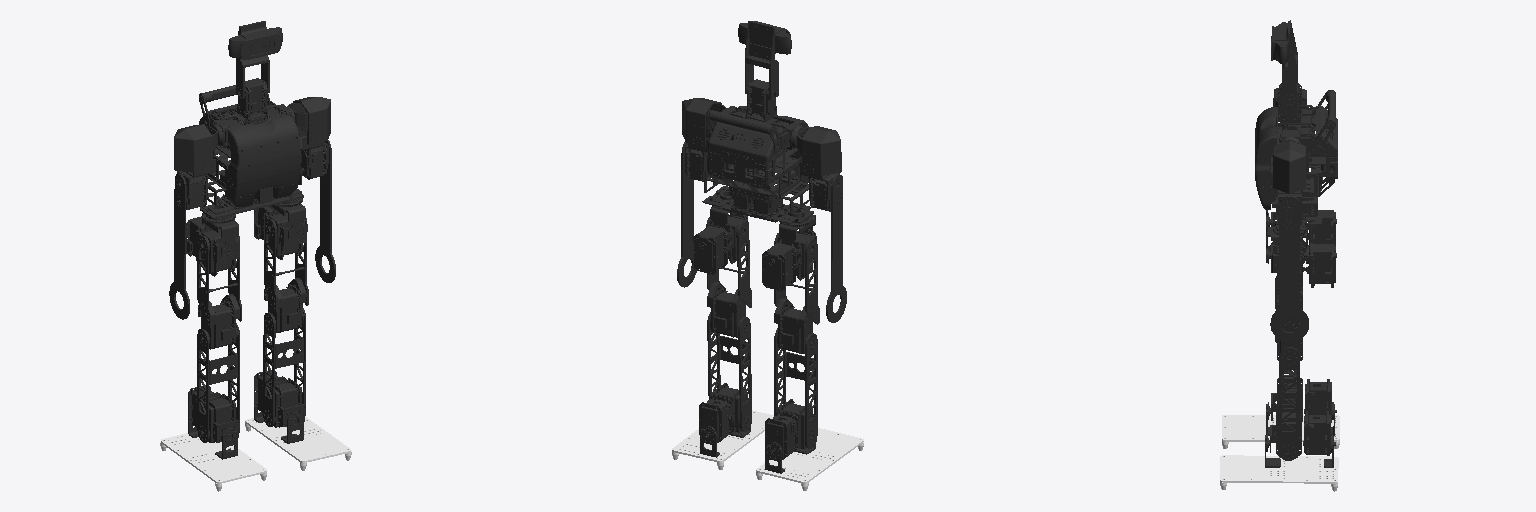
--- Render facts (derived) ---
3 views of the same robot in one strip: view 1: azimuth 30°, elevation 25°; view 2: azimuth 150°, elevation 25°; view 3: azimuth 270°, elevation 25° (orthographic).
Model zjudancerURDF with 22 links and 21 joints (18 revolute, 3 fixed), rooted at base_com, posed all joints at 0.
Visible links, largest first — view 1: base_link, LHipPitch, RHipPitch, RShoulder, r_sole, LShoulder, RKnee, LKnee, HeadPitch, l_sole, RHand, RAnklePitch (+7 smaller); view 2: base_link, RShoulder, RHipPitch, LHipPitch, r_sole, HeadPitch, RKnee, LKnee, LShoulder, LHipRoll, RHipRoll, RHand (+5 smaller); view 3: base_link, LHand, l_sole, LShoulder, LKnee, LAnklePitch, LHipRoll, HeadPitch, r_sole, RAnklePitch, RHipRoll, HeadYaw (+1 smaller).
Link boxes in pixels (x1,y1,x2,y2): base_link: (199, 85, 303, 223); LHipPitch: (264, 218, 308, 332); RHipPitch: (197, 235, 241, 349); RShoulder: (174, 124, 217, 209); r_sole: (160, 433, 266, 491); LShoulder: (287, 97, 330, 179); RKnee: (197, 323, 239, 442); LKnee: (263, 308, 305, 426); HeadPitch: (228, 21, 282, 98); l_sole: (245, 416, 351, 470); RHand: (169, 174, 189, 319); RAnklePitch: (188, 385, 238, 442); base_link: (702, 106, 813, 226); RShoulder: (797, 126, 841, 211); RHipPitch: (774, 233, 819, 353); LHipPitch: (706, 217, 751, 337); r_sole: (756, 428, 863, 490); HeadPitch: (738, 21, 791, 100); RKnee: (774, 328, 817, 448); LKnee: (707, 312, 751, 431); LShoulder: (682, 98, 725, 181); LHipRoll: (693, 213, 748, 274); RHipRoll: (762, 229, 816, 290); RHand: (826, 174, 846, 322); base_link: (1255, 90, 1337, 235); LHand: (1270, 196, 1308, 341); l_sole: (1220, 455, 1338, 491); LShoulder: (1273, 141, 1305, 225); LKnee: (1278, 347, 1299, 460); LAnklePitch: (1266, 410, 1335, 457); LHipRoll: (1268, 242, 1336, 287); HeadPitch: (1271, 20, 1297, 103); r_sole: (1222, 415, 1339, 448); RAnklePitch: (1268, 378, 1336, 422); RHipRoll: (1268, 210, 1336, 247); HeadYaw: (1278, 83, 1301, 122).
Size in the robot's own frame: 0.2805 by 0.1835 by 0.7308 metres.
Meshes: 21 distinct files referenced, 21 mesh visuals loaded (21 binary STL).

The robot description file, URDF, robot "zjudancerURDF":
<robot
  name="zjudancerURDF">
  <link name = "base_com" />
  <link
    name="base_link">
    <inertial>
      <origin
        xyz="-0.0208293262310362 0.0080090301997606 -0.00911554239783212"
        rpy="0 0 0" />
      <mass
        value="0.540875998303045" />
      <inertia
        ixx="0.00198815257681203"
        ixy="3.61383751067365E-06"
        ixz="-5.13308899389049E-06"
        iyy="0.00127845415804462"
        iyz="0.000133026039099894"
        izz="0.00224195983699153" />
    </inertial>
    <visual>
      <origin
        xyz="0 0 0"
        rpy="0 0 0" />
      <geometry>
        <mesh
          filename="package://zjudancerURDF/meshes/base_link.stl" />
      </geometry>
      <material
        name="">
        <color
          rgba="0.25 0.25 0.25 1" />
      </material>
    </visual>
    <collision>
      <origin
        xyz="0 0 0"
        rpy="0 0 0" />
      <geometry>
        <mesh
          filename="package://zjudancerURDF/meshes/base_link.stl" />
      </geometry>
    </collision>
  </link>
  <joint
    name="drummy"
    type="fixed">
    <origin
      xyz="0 0 0"
      rpy="-1.5708 0 0" />
    <parent
      link="base_com" />
    <child
      link="base_link" />
  </joint>
  <link
    name="HeadYaw">
    <inertial>
      <origin
        xyz="-0.000345179135047391 -0.0267172826783171 -1.25612328837066E-08"
        rpy="0 0 0" />
      <mass
        value="0.0579542771191171" />
      <inertia
        ixx="1.94910114823733E-05"
        ixy="-3.84202176913727E-07"
        ixz="-2.1788375664448E-12"
        iyy="1.1489962681525E-05"
        iyz="1.52314344728411E-11"
        izz="2.30934707566597E-05" />
    </inertial>
    <visual>
      <origin
        xyz="0 0 0"
        rpy="0 0 0" />
      <geometry>
        <mesh
          filename="package://zjudancerURDF/meshes/HeadYaw.stl" />
      </geometry>
      <material
        name="">
        <color
          rgba="0.25 0.25 0.25 1" />
      </material>
    </visual>
    <collision>
      <origin
        xyz="0 0 0"
        rpy="0 0 0" />
      <geometry>
        <mesh
          filename="package://zjudancerURDF/meshes/HeadYaw.stl" />
      </geometry>
    </collision>
  </link>
  <joint
    name="HeadYaw"
    type="revolute">
    <origin
      xyz="-0.021584 -0.05865 -0.020408"
      rpy="3.1416 -0.02764 -3.1416" />
    <parent
      link="base_link" />
    <child
      link="HeadYaw" />
    <axis
      xyz="0 -1 0" />
    <limit
      lower="-1.7"
      upper="1.7"
      effort="0"
      velocity="0" />
  </joint>
  <link
    name="HeadPitch">
    <inertial>
      <origin
        xyz="0.000232827325365077 0.0743784701197822 0.00629122846704461"
        rpy="0 0 0" />
      <mass
        value="0.127630752753862" />
      <inertia
        ixx="9.58759288594825E-05"
        ixy="2.7068878296526E-08"
        ixz="-1.46120279992447E-08"
        iyy="6.37124130380846E-05"
        iyz="-1.39032063600842E-05"
        izz="0.000137696804225242" />
    </inertial>
    <visual>
      <origin
        xyz="0 0 0"
        rpy="0 0 0" />
      <geometry>
        <mesh
          filename="package://zjudancerURDF/meshes/HeadPitch.stl" />
      </geometry>
      <material
        name="">
        <color
          rgba="0.25 0.25 0.25 1" />
      </material>
    </visual>
    <collision>
      <origin
        xyz="0 0 0"
        rpy="0 0 0" />
      <geometry>
        <mesh
          filename="package://zjudancerURDF/meshes/HeadPitch.stl" />
      </geometry>
    </collision>
  </link>
  <joint
    name="HeadPitch"
    type="revolute">
    <origin
      xyz="0 -0.037 0"
      rpy="2.3666E-30 -6.9389E-16 3.1416" />
    <parent
      link="HeadYaw" />
    <child
      link="HeadPitch" />
    <axis
      xyz="1 0 0" />
    <limit
      lower="-1.7"
      upper="1.7"
      effort="0"
      velocity="0" />
  </joint>
  <link
    name="RShoulder">
    <inertial>
      <origin
        xyz="-0.0015216 0.042377 0.039565"
        rpy="0 0 0" />
      <mass
        value="0.11888" />
      <inertia
        ixx="0.00020971"
        ixy="6.5772E-06"
        ixz="5.8253E-08"
        iyy="5.6251E-05"
        iyz="-5.8281E-06"
        izz="0.0002001" />
    </inertial>
    <visual>
      <origin
        xyz="0 0 0"
        rpy="0 0 0" />
      <geometry>
        <mesh
          filename="package://zjudancerURDF/meshes/RShoulder.stl" />
      </geometry>
      <material
        name="">
        <color
          rgba="0.25 0.25 0.25 1" />
      </material>
    </visual>
    <collision>
      <origin
        xyz="0 0 0"
        rpy="0 0 0" />
      <geometry>
        <mesh
          filename="package://zjudancerURDF/meshes/RShoulder.stl" />
      </geometry>
    </collision>
  </link>
  <joint
    name="RShoulder"
    type="revolute">
    <origin
      xyz="-0.090484 -0.0399 -0.020408"
      rpy="3.1416 -1.5708 3.1416" />
    <parent
      link="base_link" />
    <child
      link="RShoulder" />
    <axis
      xyz="0 0 -1" />
    <limit
      lower="-1.7"
      upper="1.7"
      effort="0"
      velocity="0" />
  </joint>
  <link
    name="RHand">
    <inertial>
      <origin
        xyz="0.0833257163351804 0.000902994547307041 -0.00926588213450355"
        rpy="0 0 0" />
      <mass
        value="0.0470941776045623" />
      <inertia
        ixx="6.60989693567866E-06"
        ixy="-2.42325546400845E-06"
        ixz="1.32651560598224E-20"
        iyy="0.000230194618228517"
        iyz="-3.82259903079613E-22"
        izz="0.000236733873897789" />
    </inertial>
    <visual>
      <origin
        xyz="0 0 0"
        rpy="0 0 0" />
      <geometry>
        <mesh
          filename="package://zjudancerURDF/meshes/RHand.stl" />
      </geometry>
      <material
        name="">
        <color
          rgba="0.25 0.25 0.25 1" />
      </material>
    </visual>
    <collision>
      <origin
        xyz="0 0 0"
        rpy="0 0 0" />
      <geometry>
        <mesh
          filename="package://zjudancerURDF/meshes/RHand.stl" />
      </geometry>
    </collision>
  </link>
  <joint
    name="RHand"
    type="revolute">
    <origin
      xyz="-0.0037735 0.096126 0.052584"
      rpy="3.1416 -7.5804E-16 1.5708" />
    <parent
      link="RShoulder" />
    <child
      link="RHand" />
    <axis
      xyz="0 0 1" />
    <limit
      lower="-1.7"
      upper="1.7"
      effort="0"
      velocity="0" />
  </joint>
  <link
    name="LShoulder">
    <inertial>
      <origin
        xyz="0.00014187 0.042405 0.039565"
        rpy="0 0 0" />
      <mass
        value="0.11888" />
      <inertia
        ixx="0.00020999"
        ixy="5.4215E-07"
        ixz="-1.704E-07"
        iyy="5.5972E-05"
        iyz="-5.8259E-06"
        izz="0.0002001" />
    </inertial>
    <visual>
      <origin
        xyz="0 0 0"
        rpy="0 0 0" />
      <geometry>
        <mesh
          filename="package://zjudancerURDF/meshes/LShoulder.stl" />
      </geometry>
      <material
        name="">
        <color
          rgba="0.25 0.25 0.25 1" />
      </material>
    </visual>
    <collision>
      <origin
        xyz="0 0 0"
        rpy="0 0 0" />
      <geometry>
        <mesh
          filename="package://zjudancerURDF/meshes/LShoulder.stl" />
      </geometry>
    </collision>
  </link>
  <joint
    name="LShoulder"
    type="revolute">
    <origin
      xyz="0.047316 -0.0399 -0.020408"
      rpy="0 1.5708 0" />
    <parent
      link="base_link" />
    <child
      link="LShoulder" />
    <axis
      xyz="0 0 1" />
    <limit
      lower="-1.7"
      upper="1.7"
      effort="0"
      velocity="0" />
  </joint>
  <link
    name="LHand">
    <inertial>
      <origin
        xyz="-0.0832261685834999 -0.00417076309975184 -0.00926588213450361"
        rpy="0 0 0" />
      <mass
        value="0.0470941776045622" />
      <inertia
        ixx="7.14386591152994E-06"
        ixy="-1.11791926730606E-05"
        ixz="7.16954742566721E-21"
        iyy="0.000229660649252665"
        iyz="6.57698421551188E-22"
        izz="0.000236733873897789" />
    </inertial>
    <visual>
      <origin
        xyz="0 0 0"
        rpy="0 0 0" />
      <geometry>
        <mesh
          filename="package://zjudancerURDF/meshes/LHand.stl" />
      </geometry>
      <material
        name="">
        <color
          rgba="0.25 0.25 0.25 1" />
      </material>
    </visual>
    <collision>
      <origin
        xyz="0 0 0"
        rpy="0 0 0" />
      <geometry>
        <mesh
          filename="package://zjudancerURDF/meshes/LHand.stl" />
      </geometry>
    </collision>
  </link>
  <joint
    name="LHand"
    type="revolute">
    <origin
      xyz="0 0.0962 0.052584"
      rpy="-3.1416 1.7738E-16 -1.5208" />
    <parent
      link="LShoulder" />
    <child
      link="LHand" />
    <axis
      xyz="0 0 -1" />
    <limit
      lower="-1.7"
      upper="1.7"
      effort="0"
      velocity="0" />
  </joint>
  <link
    name="RHipYaw">
    <inertial>
      <origin
        xyz="0.00016521 -0.011755 -0.0050637"
        rpy="0 0 0" />
      <mass
        value="0.031461" />
      <inertia
        ixx="2.3834E-05"
        ixy="-1.1654E-08"
        ixz="-8.5111E-10"
        iyy="2.1651E-05"
        iyz="5.4121E-08"
        izz="9.4522E-06" />
    </inertial>
    <visual>
      <origin
        xyz="0 0 0"
        rpy="0 0 0" />
      <geometry>
        <mesh
          filename="package://zjudancerURDF/meshes/RHipYaw.stl" />
      </geometry>
      <material
        name="">
        <color
          rgba="0.25 0.25 0.25 1" />
      </material>
    </visual>
    <collision>
      <origin
        xyz="0 0 0"
        rpy="0 0 0" />
      <geometry>
        <mesh
          filename="package://zjudancerURDF/meshes/RHipYaw.stl" />
      </geometry>
    </collision>
  </link>
  <joint
    name="RHipYaw"
    type="revolute">
    <origin
      xyz="-0.081684 0.1026 -0.020354"
      rpy="6.123E-17 -2.7756E-15 3.1416" />
    <parent
      link="base_link" />
    <child
      link="RHipYaw" />
    <axis
      xyz="0 1 0" />
    <limit
      lower="-1.7"
      upper="1.7"
      effort="0"
      velocity="0" />
  </joint>
  <link
    name="RHipRoll">
    <inertial>
      <origin
        xyz="-0.00411310755183356 -0.0126360407831169 -0.0481640865463906"
        rpy="0 0 0" />
      <mass
        value="0.187310637380507" />
      <inertia
        ixx="0.000205637944340632"
        ixy="-5.76817498493574E-06"
        ixz="-3.57815869953642E-06"
        iyy="0.000191205571193831"
        iyz="-1.00837420891128E-05"
        izz="7.8782502294624E-05" />
    </inertial>
    <visual>
      <origin
        xyz="0 0 0"
        rpy="0 0 0" />
      <geometry>
        <mesh
          filename="package://zjudancerURDF/meshes/RHipRoll.stl" />
      </geometry>
      <material
        name="">
        <color
          rgba="0.25 0.25 0.25 1" />
      </material>
    </visual>
    <collision>
      <origin
        xyz="0 0 0"
        rpy="0 0 0" />
      <geometry>
        <mesh
          filename="package://zjudancerURDF/meshes/RHipRoll.stl" />
      </geometry>
    </collision>
  </link>
  <joint
    name="RHipRoll"
    type="revolute">
    <origin
      xyz="0 -0.04 -0.0315"
      rpy="-3.1416 -2.6346E-15 2.8215" />
    <parent
      link="RHipYaw" />
    <child
      link="RHipRoll" />
    <axis
      xyz="0 0 -1" />
    <limit
      lower="-1.7"
      upper="1.7"
      effort="0"
      velocity="0" />
  </joint>
  <link
    name="RHipPitch">
    <inertial>
      <origin
        xyz="-0.000539777794404738 -0.119511170659045 0.0289145644707088"
        rpy="0 0 0" />
      <mass
        value="0.157055119718314" />
      <inertia
        ixx="0.000354792475912493"
        ixy="1.00450261055402E-06"
        ixz="7.19523224998815E-09"
        iyy="7.65492849391043E-05"
        iyz="-6.80650359950641E-07"
        izz="0.000310437387545802" />
    </inertial>
    <visual>
      <origin
        xyz="0 0 0"
        rpy="0 0 0" />
      <geometry>
        <mesh
          filename="package://zjudancerURDF/meshes/RHipPitch.stl" />
      </geometry>
      <material
        name="">
        <color
          rgba="0.25 0.25 0.25 1" />
      </material>
    </visual>
    <collision>
      <origin
        xyz="0 0 0"
        rpy="0 0 0" />
      <geometry>
        <mesh
          filename="package://zjudancerURDF/meshes/RHipPitch.stl" />
      </geometry>
    </collision>
  </link>
  <joint
    name="RHipPitch"
    type="revolute">
    <origin
      xyz="-0.027527 0.0091246 -0.0315"
      rpy="0.32008 1.5708 0" />
    <parent
      link="RHipRoll" />
    <child
      link="RHipPitch" />
    <axis
      xyz="0 0 1" />
    <limit
      lower="-1.7"
      upper="1.7"
      effort="0"
      velocity="0" />
  </joint>
  <link
    name="RKnee">
    <inertial>
      <origin
        xyz="-0.00137487246241106 -0.0785718139027019 0.0289999999999999"
        rpy="0 0 0" />
      <mass
        value="0.0530853439931548" />
      <inertia
        ixx="0.000203527846057276"
        ixy="1.90286639712834E-06"
        ixz="-3.20449384208379E-20"
        iyy="4.37203773624098E-05"
        iyz="2.38327675182106E-19"
        izz="0.000171534429178642" />
    </inertial>
    <visual>
      <origin
        xyz="0 0 0"
        rpy="0 0 0" />
      <geometry>
        <mesh
          filename="package://zjudancerURDF/meshes/RKnee.stl" />
      </geometry>
      <material
        name="">
        <color
          rgba="0.25 0.25 0.25 1" />
      </material>
    </visual>
    <collision>
      <origin
        xyz="0 0 0"
        rpy="0 0 0" />
      <geometry>
        <mesh
          filename="package://zjudancerURDF/meshes/RKnee.stl" />
      </geometry>
    </collision>
  </link>
  <joint
    name="RKnee"
    type="revolute">
    <origin
      xyz="0 -0.16 0"
      rpy="1.3878E-15 -1.3878E-15 1.9259E-30" />
    <parent
      link="RHipPitch" />
    <child
      link="RKnee" />
    <axis
      xyz="0 0 1" />
    <limit
      lower="-1.7"
      upper="1.7"
      effort="0"
      velocity="0" />
  </joint>
  <link
    name="RAnklePitch">
    <inertial>
      <origin
        xyz="0.016089 -0.022652 0.013431"
        rpy="0 0 0" />
      <mass
        value="0.18054" />
      <inertia
        ixx="7.5559E-05"
        ixy="2.0676E-06"
        ixz="-5.0596E-06"
        iyy="0.00018067"
        iyz="6.3424E-07"
        izz="0.00015996" />
    </inertial>
    <visual>
      <origin
        xyz="0 0 0"
        rpy="0 0 0" />
      <geometry>
        <mesh
          filename="package://zjudancerURDF/meshes/RAnklePitch.stl" />
      </geometry>
      <material
        name="">
        <color
          rgba="0.25 0.25 0.25 1" />
      </material>
    </visual>
    <collision>
      <origin
        xyz="0 0 0"
        rpy="0 0 0" />
      <geometry>
        <mesh
          filename="package://zjudancerURDF/meshes/RAnklePitch.stl" />
      </geometry>
    </collision>
  </link>
  <joint
    name="RAnklePitch"
    type="revolute">
    <origin
      xyz="0 -0.16 0.006"
      rpy="-1.5708 7.8886E-31 0" />
    <parent
      link="RKnee" />
    <child
      link="RAnklePitch" />
    <axis
      xyz="0 -1 0" />
    <limit
      lower="-1.7"
      upper="1.7"
      effort="0"
      velocity="0" />
  </joint>
  <link
    name="RAnkleRoll">
    <inertial>
      <origin
        xyz="8.3267E-17 -0.02182 0.049567"
        rpy="0 0 0" />
      <mass
        value="0.019109" />
      <inertia
        ixx="4.7887E-05"
        ixy="5.6632E-21"
        ixz="-1.0583E-20"
        iyy="4.5961E-05"
        iyz="-7.8252E-07"
        izz="4.7707E-06" />
    </inertial>
    <visual>
      <origin
        xyz="0 0 0"
        rpy="0 0 0" />
      <geometry>
        <mesh
          filename="package://zjudancerURDF/meshes/RAnkleRoll.stl" />
      </geometry>
      <material
        name="">
        <color
          rgba="0.25 0.25 0.25 1" />
      </material>
    </visual>
    <collision>
      <origin
        xyz="0 0 0"
        rpy="0 0 0" />
      <geometry>
        <mesh
          filename="package://zjudancerURDF/meshes/RAnkleRoll.stl" />
      </geometry>
    </collision>
  </link>
  <joint
    name="RAnkleRoll"
    type="revolute">
    <origin
      xyz="-0.0365 -0.023 0"
      rpy="1.5708 -1.4444E-30 1.5708" />
    <parent
      link="RAnklePitch" />
    <child
      link="RAnkleRoll" />
    <axis
      xyz="0 0 1" />
    <limit
      lower="-1.7"
      upper="1.7"
      effort="0"
      velocity="0" />
  </joint>
  <link
    name="r_sole">
    <inertial>
      <origin
        xyz="-1.3878E-17 0.00093248 0.0012291"
        rpy="0 0 0" />
      <mass
        value="0.098145" />
      <inertia
        ixx="0.00028349"
        ixy="4.2827E-20"
        ixz="-1.537E-19"
        iyy="6.9882E-05"
        iyz="-2.4788E-08"
        izz="0.00035276" />
    </inertial>
    <visual>
      <origin
        xyz="0 0 0"
        rpy="0 0 0" />
      <geometry>
        <mesh
          filename="package://zjudancerURDF/meshes/r_sole.stl" />
      </geometry>
      <material
        name="">
        <color
          rgba="1 1 1 1" />
      </material>
    </visual>
    <collision>
      <origin
        xyz="0 0 0"
        rpy="0 0 0" />
      <geometry>
        <mesh
          filename="package://zjudancerURDF/meshes/r_sole.stl" />
      </geometry>
    </collision>
  </link>
  <joint
    name="r_sole"
    type="fixed">
    <origin
      xyz="0.017 -0.038 0.0225"
      rpy="-1.5708 6.9389E-16 -1.9259E-30" />
    <parent
      link="RAnkleRoll" />
    <child
      link="r_sole" />
    <axis
      xyz="0 0 0" />
  </joint>
  <link
    name="LHipYaw">
    <inertial>
      <origin
        xyz="-0.020829 0.008009 -0.0091155"
        rpy="0 0 0" />
      <mass
        value="0.54088" />
      <inertia
        ixx="0.0019882"
        ixy="3.6138E-06"
        ixz="-5.1331E-06"
        iyy="0.0012785"
        iyz="0.00013303"
        izz="0.002242" />
    </inertial>
    <visual>
      <origin
        xyz="0 0 0"
        rpy="0 0 0" />
      <geometry>
        <mesh
          filename="package://zjudancerURDF/meshes/LHipYaw.stl" />
      </geometry>
      <material
        name="">
        <color
          rgba="0.25 0.25 0.25 1" />
      </material>
    </visual>
    <collision>
      <origin
        xyz="0 0 0"
        rpy="0 0 0" />
      <geometry>
        <mesh
          filename="package://zjudancerURDF/meshes/LHipYaw.stl" />
      </geometry>
    </collision>
  </link>
  <joint
    name="LHipYaw"
    type="revolute">
    <origin
      xyz="0.038516 0.1026 -0.020354"
      rpy="-2.8869E-16 -0.02372 -3.1416" />
    <parent
      link="base_link" />
    <child
      link="LHipYaw" />
    <axis
      xyz="0 1 0" />
    <limit
      lower="-1.7"
      upper="1.7"
      effort="0"
      velocity="0" />
  </joint>
  <link
    name="LHipRoll">
    <inertial>
      <origin
        xyz="0.016909 -0.00058218 0.012978"
        rpy="0 0 0" />
      <mass
        value="0.1916" />
      <inertia
        ixx="7.9917E-05"
        ixy="7.33E-07"
        ixz="-1.0063E-05"
        iyy="0.00020902"
        iyz="1.273E-06"
        izz="0.00018997" />
    </inertial>
    <visual>
      <origin
        xyz="0 0 0"
        rpy="0 0 0" />
      <geometry>
        <mesh
          filename="package://zjudancerURDF/meshes/LHipRoll.stl" />
      </geometry>
      <material
        name="">
        <color
          rgba="0.25 0.25 0.25 1" />
      </material>
    </visual>
    <collision>
      <origin
        xyz="0 0 0"
        rpy="0 0 0" />
      <geometry>
        <mesh
          filename="package://zjudancerURDF/meshes/LHipRoll.stl" />
      </geometry>
    </collision>
  </link>
  <joint
    name="LHipRoll"
    type="revolute">
    <origin
      xyz="0 -0.04 0"
      rpy="1.5335 -1.5708 0" />
    <parent
      link="LHipYaw" />
    <child
      link="LHipRoll" />
    <axis
      xyz="1 0 0" />
    <limit
      lower="-1.7"
      upper="1.7"
      effort="0"
      velocity="0" />
  </joint>
  <link
    name="LHipPitch">
    <inertial>
      <origin
        xyz="-0.11951 -0.00075639 8.5435E-05"
        rpy="0 0 0" />
      <mass
        value="0.15706" />
      <inertia
        ixx="7.6547E-05"
        ixy="5.0018E-07"
        ixz="6.8066E-07"
        iyy="0.0003548"
        iyz="-5.9615E-09"
        izz="0.00031044" />
    </inertial>
    <visual>
      <origin
        xyz="0 0 0"
        rpy="0 0 0" />
      <geometry>
        <mesh
          filename="package://zjudancerURDF/meshes/LHipPitch.stl" />
      </geometry>
      <material
        name="">
        <color
          rgba="0.25 0.25 0.25 1" />
      </material>
    </visual>
    <collision>
      <origin
        xyz="0 0 0"
        rpy="0 0 0" />
      <geometry>
        <mesh
          filename="package://zjudancerURDF/meshes/LHipPitch.stl" />
      </geometry>
    </collision>
  </link>
  <joint
    name="LHipPitch"
    type="revolute">
    <origin
      xyz="0 0 0"
      rpy="-3.1055 1.5205 1.5869" />
    <parent
      link="LHipRoll" />
    <child
      link="LHipPitch" />
    <axis
      xyz="0 0 -1" />
    <limit
      lower="-1.7"
      upper="1.7"
      effort="0"
      velocity="0" />
  </joint>
  <link
    name="LKnee">
    <inertial>
      <origin
        xyz="0.078569 -0.0015173 -0.017149"
        rpy="0 0 0" />
      <mass
        value="0.053085" />
      <inertia
        ixx="4.3714E-05"
        ixy="-1.6132E-06"
        ixz="-2.8799E-20"
        iyy="0.00020353"
        iyz="-8.611E-22"
        izz="0.00017153" />
    </inertial>
    <visual>
      <origin
        xyz="0 0 0"
        rpy="0 0 0" />
      <geometry>
        <mesh
          filename="package://zjudancerURDF/meshes/LKnee.stl" />
      </geometry>
      <material
        name="">
        <color
          rgba="0.25 0.25 0.25 1" />
      </material>
    </visual>
    <collision>
      <origin
        xyz="0 0 0"
        rpy="0 0 0" />
      <geometry>
        <mesh
          filename="package://zjudancerURDF/meshes/LKnee.stl" />
      </geometry>
    </collision>
  </link>
  <joint
    name="LKnee"
    type="revolute">
    <origin
      xyz="-0.16 -0.00029 -0.017149"
      rpy="3.1416 -2.8276E-16 -3.1316" />
    <parent
      link="LHipPitch" />
    <child
      link="LKnee" />
    <axis
      xyz="0 0 1" />
    <limit
      lower="-1.7"
      upper="1.7"
      effort="0"
      velocity="0" />
  </joint>
  <link
    name="LAnklePitch">
    <inertial>
      <origin
        xyz="-0.013402 0.016113 -0.017497"
        rpy="0 0 0" />
      <mass
        value="0.18054" />
      <inertia
        ixx="0.00015998"
        ixy="4.9066E-06"
        ixz="6.3049E-07"
        iyy="7.5541E-05"
        iyz="-2.0687E-06"
        izz="0.00018067" />
    </inertial>
    <visual>
      <origin
        xyz="0 0 0"
        rpy="0 0 0" />
      <geometry>
        <mesh
          filename="package://zjudancerURDF/meshes/LAnklePitch.stl" />
      </geometry>
      <material
        name="">
        <color
          rgba="0.25 0.25 0.25 1" />
      </material>
    </visual>
    <collision>
      <origin
        xyz="0 0 0"
        rpy="0 0 0" />
      <geometry>
        <mesh
          filename="package://zjudancerURDF/meshes/LAnklePitch.stl" />
      </geometry>
    </collision>
  </link>
  <joint
    name="LAnklePitch"
    type="revolute">
    <origin
      xyz="0.16 -0.00029 0"
      rpy="1.7276E-17 0 0" />
    <parent
      link="LKnee" />
    <child
      link="LAnklePitch" />
    <axis
      xyz="0 0 1" />
    <limit
      lower="-1.7"
      upper="1.7"
      effort="0"
      velocity="0" />
  </joint>
  <link
    name="LAnkleRoll">
    <inertial>
      <origin
        xyz="0.021786 -0.018723 2.7756E-17"
        rpy="0 0 0" />
      <mass
        value="0.019109" />
      <inertia
        ixx="4.5964E-05"
        ixy="7.0786E-07"
        ixz="5.9822E-21"
        iyy="4.768E-06"
        iyz="4.8E-21"
        izz="4.7887E-05" />
    </inertial>
    <visual>
      <origin
        xyz="0 0 0"
        rpy="0 0 0" />
      <geometry>
        <mesh
          filename="package://zjudancerURDF/meshes/LAnkleRoll.stl" />
      </geometry>
      <material
        name="">
        <color
          rgba="0.25 0.25 0.25 1" />
      </material>
    </visual>
    <collision>
      <origin
        xyz="0 0 0"
        rpy="0 0 0" />
      <geometry>
        <mesh
          filename="package://zjudancerURDF/meshes/LAnkleRoll.stl" />
      </geometry>
    </collision>
  </link>
  <joint
    name="LAnkleRoll"
    type="revolute">
    <origin
      xyz="5.7548E-05 0.031751 -0.017149"
      rpy="1.7276E-17 0 0" />
    <parent
      link="LAnklePitch" />
    <child
      link="LAnkleRoll" />
    <axis
      xyz="0.0018125 1 0" />
    <limit
      lower="-1.7"
      upper="1.7"
      effort="0"
      velocity="0" />
  </joint>
  <link
    name="l_sole">
    <inertial>
      <origin
        xyz="0.039185 -0.084068 0.017218"
        rpy="0 0 0" />
      <mass
        value="0.098145" />
      <inertia
        ixx="0.00028366"
        ixy="1.2443E-09"
        ixz="-3.4731E-06"
        iyy="6.9882E-05"
        iyz="-2.4757E-08"
        izz="0.00035259" />
    </inertial>
    <visual>
      <origin
        xyz="0 0 0"
        rpy="0 0 0" />
      <geometry>
        <mesh
          filename="package://zjudancerURDF/meshes/l_sole.stl" />
      </geometry>
      <material
        name="">
        <color
          rgba="1 1 1 1" />
      </material>
    </visual>
    <collision>
      <origin
        xyz="0 0 0"
        rpy="0 0 0" />
      <geometry>
        <mesh
          filename="package://zjudancerURDF/meshes/l_sole.stl" />
      </geometry>
    </collision>
  </link>
  <joint
    name="l_sole"
    type="fixed">
    <origin
      xyz="0.051763 -0.13085 0.057"
      rpy="3.1416 1.5206 -0.0018125" />
    <parent
      link="LAnkleRoll" />
    <child
      link="l_sole" />
    <axis
      xyz="0 -1 0" />
  </joint>
</robot>
